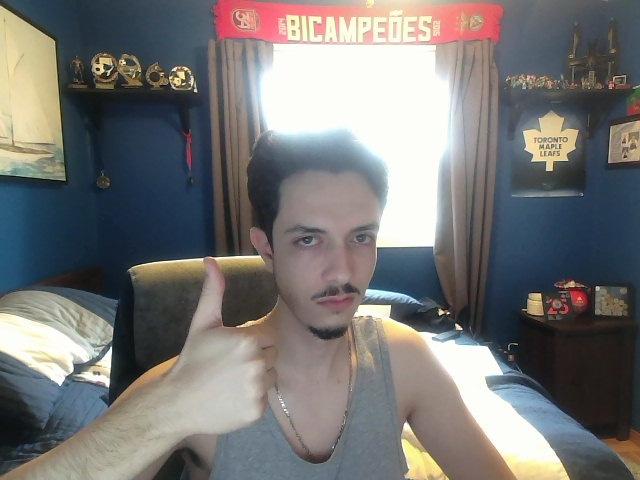ThumbsUp: (172, 256, 279, 439)
